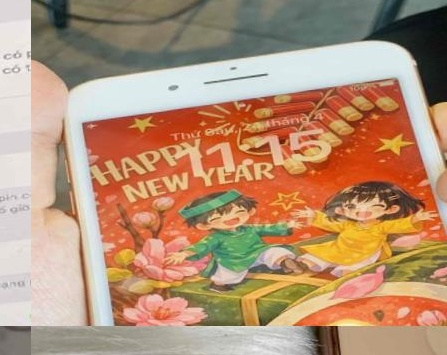scratch: (91, 53, 298, 100)
